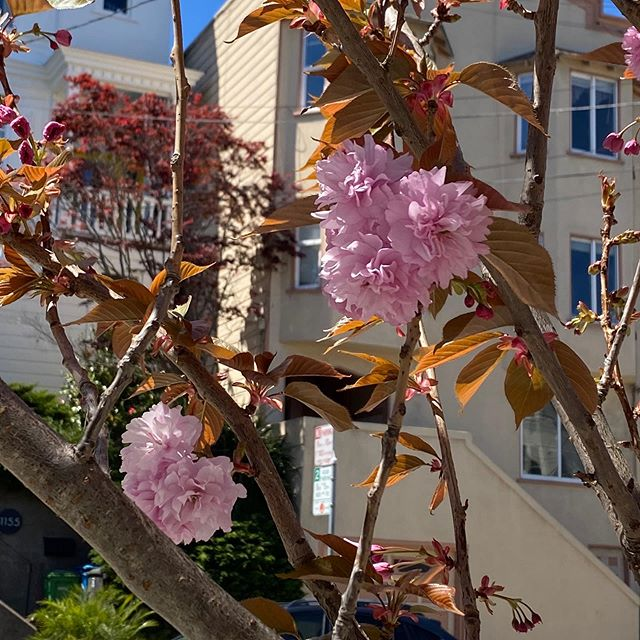building: (224, 15, 640, 640)
flowers: (47, 130, 605, 631)
